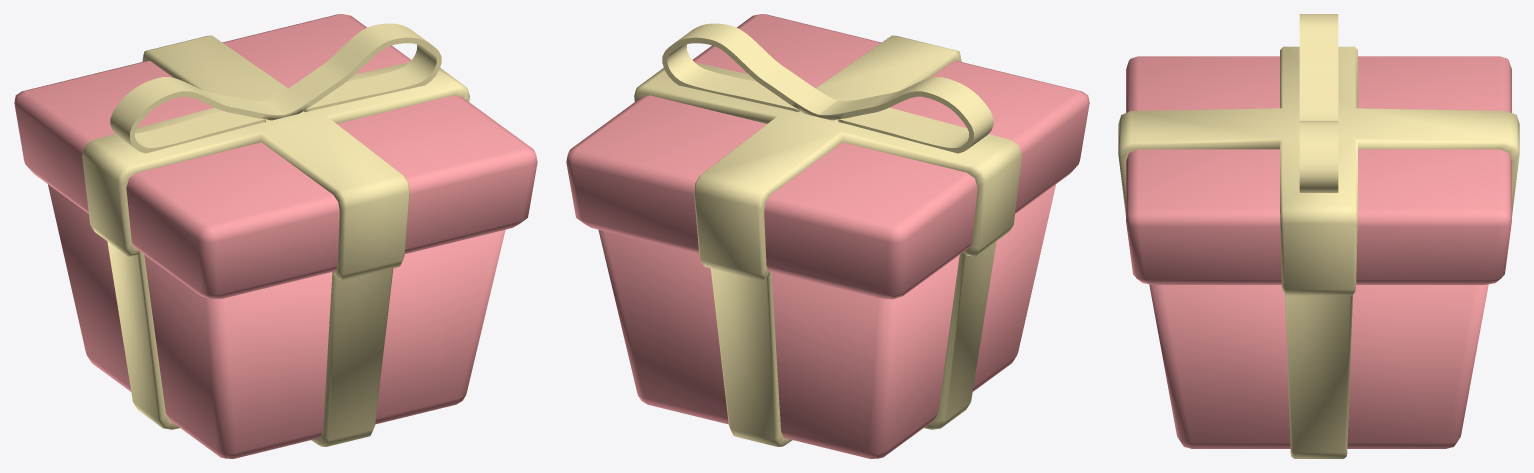
Rendered from WrappedRock.fbx.
The picture shows the model from 3 angles, left to right: view 1: azimuth 30°, elevation 25°; view 2: azimuth 150°, elevation 25°; view 3: azimuth 270°, elevation 25°; orthographic projection.
Parts seen in each view (by area): view 1: Box.001, Bow.001; view 2: Box.001, Bow.001; view 3: Box.001, Bow.001.
Part boxes in pixels (bbox=[...]): Box.001: bbox=[14, 14, 537, 458]; Bow.001: bbox=[110, 23, 441, 153]; Box.001: bbox=[566, 14, 1089, 458]; Bow.001: bbox=[662, 23, 993, 153]; Box.001: bbox=[1118, 46, 1519, 458]; Bow.001: bbox=[1299, 14, 1338, 192].
Bounding box in the file's own units: 53.9 × 49.12 × 53.9.
